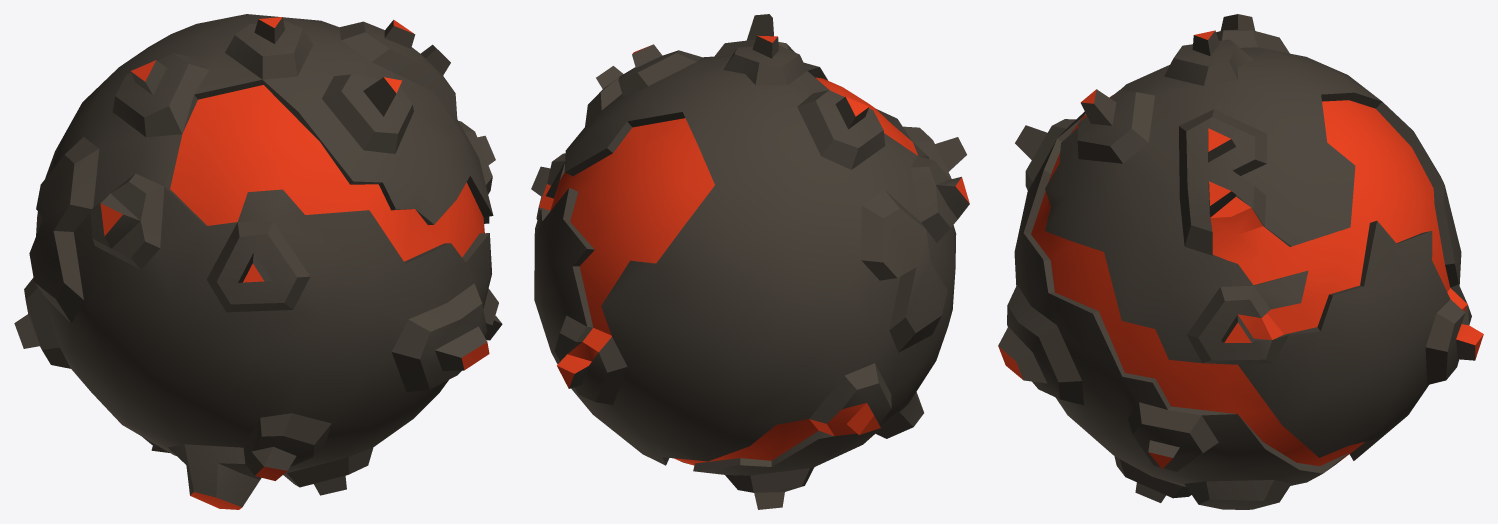
Rendered from Planeta_2.fbx.
3 renders of one model, left to right at view 1: azimuth 30°, elevation 25°; view 2: azimuth 150°, elevation 25°; view 3: azimuth 270°, elevation 25°, orthographic. The views are drawn at different scales.
Visible parts, largest first — view 1: Toy_Planet_3; view 2: Toy_Planet_3; view 3: Toy_Planet_3.
Part boxes in pixels (bbox=[...]): Toy_Planet_3: bbox=[14, 14, 502, 509]; Toy_Planet_3: bbox=[531, 14, 969, 509]; Toy_Planet_3: bbox=[998, 14, 1483, 509].
Bounding box in the file's own units: 219 × 221 × 217.
